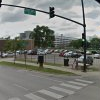crosswalk: (6, 78, 95, 100)
